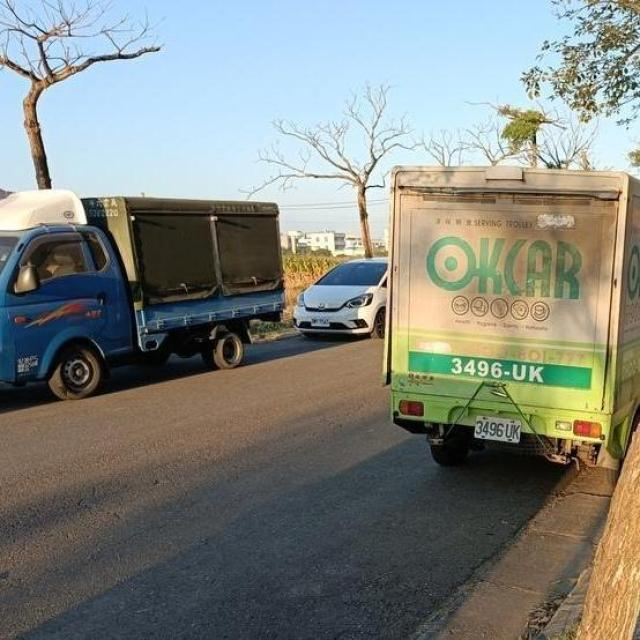W: (469, 410, 526, 446), (310, 314, 332, 327)
